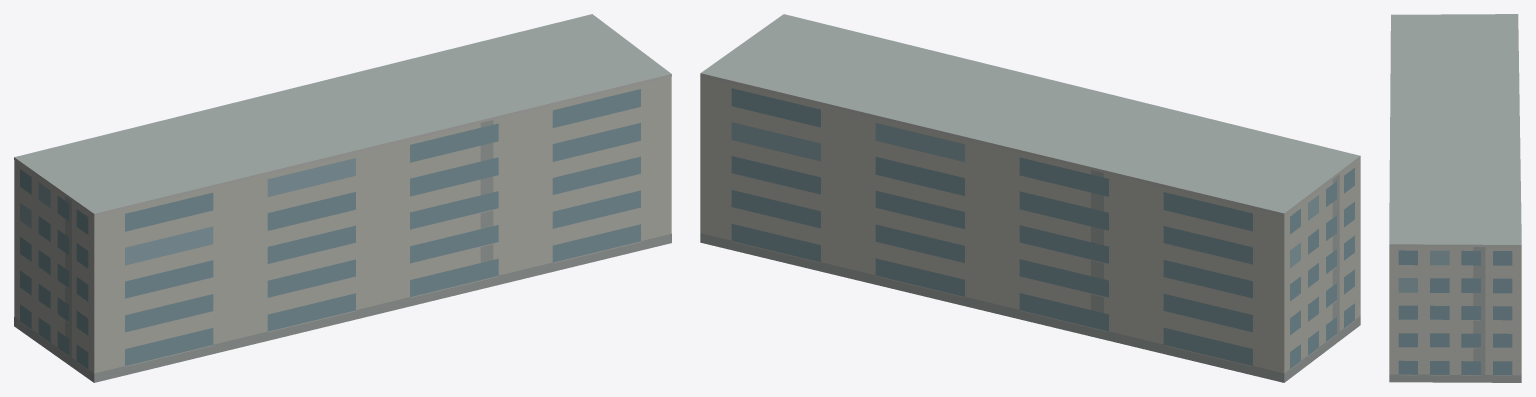
The model's file is residential-dac4bba2-7a59-4049-9a77-514027802246.glb.
3 renders of one model, left to right at view 1: azimuth 30°, elevation 25°; view 2: azimuth 150°, elevation 25°; view 3: azimuth 270°, elevation 25°, orthographic. The views are drawn at different scales.
Visible parts, largest first — view 1: residential-dac4bba2-7a59-4049-9a77-514027802246.tmp; view 2: residential-dac4bba2-7a59-4049-9a77-514027802246.tmp; view 3: residential-dac4bba2-7a59-4049-9a77-514027802246.tmp.
Boxes of the visible parts, x1,y1,x2,y2 form: residential-dac4bba2-7a59-4049-9a77-514027802246.tmp: [14, 14, 671, 382]; residential-dac4bba2-7a59-4049-9a77-514027802246.tmp: [700, 14, 1360, 382]; residential-dac4bba2-7a59-4049-9a77-514027802246.tmp: [1389, 14, 1521, 382].
Size of the model in its own units: 54.79 by 15.25 by 13.3.
